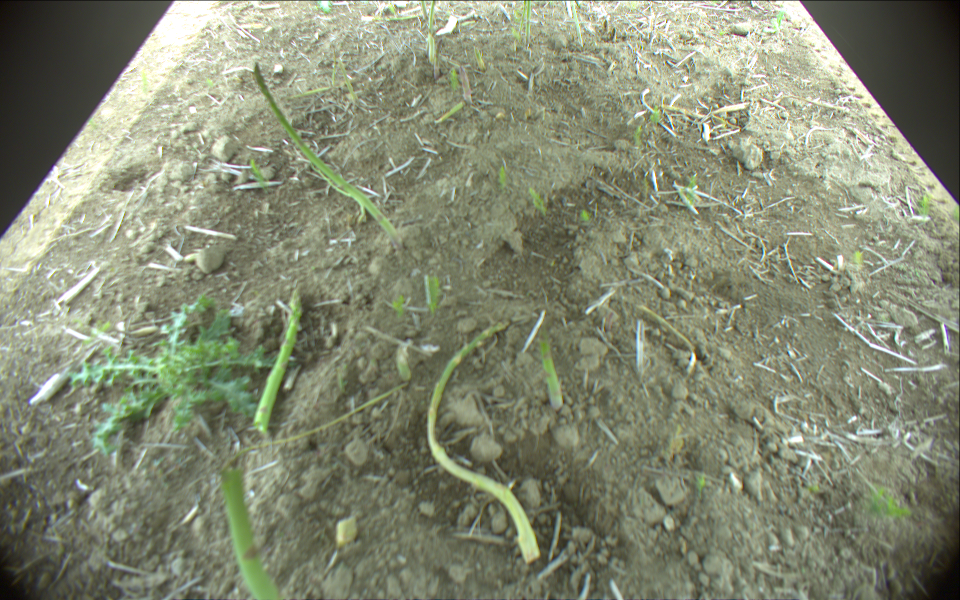aspa: (253, 63, 406, 250), (425, 321, 541, 562), (219, 469, 282, 600), (254, 291, 302, 433), (539, 329, 560, 410), (336, 51, 358, 106), (458, 63, 473, 105), (427, 1, 437, 63), (571, 2, 585, 43), (365, 13, 421, 21), (525, 1, 532, 47), (474, 43, 484, 72), (420, 1, 428, 18)
